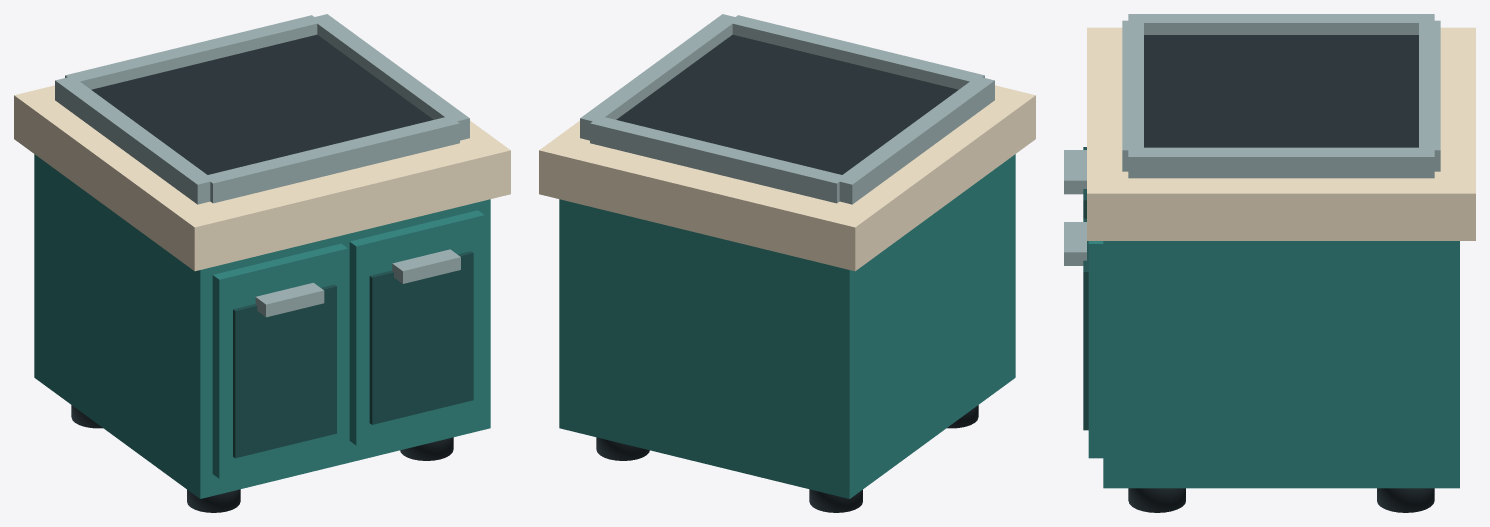
The picture shows the model from 3 angles, left to right: view 1: azimuth 30°, elevation 25°; view 2: azimuth 150°, elevation 25°; view 3: azimuth 270°, elevation 25°; orthographic projection. The views are drawn at different scales.
Visible parts, largest first — view 1: Powder coated carcase.002, Work surface.002, Recessed food well.002, Recessed face.005, Recessed face.004, Inset cabinet door.005, Inset cabinet door.004, Pan rim.010, Pan rim.008, Pan rim.011, Pan rim.009, Brushed pull.004 (+3 smaller); view 2: Powder coated carcase.002, Work surface.002, Recessed food well.002, Pan rim.011, Pan rim.008, Pan rim.010, Pan rim.009, Recessed leveling foot.009, Recessed leveling foot.011; view 3: Powder coated carcase.002, Work surface.002, Recessed food well.002, Pan rim.009, Pan rim.008, Inset cabinet door.005, Pan rim.010, Pan rim.011, Recessed leveling foot.010, Recessed leveling foot.011, Recessed face.005, Brushed pull.004 (+1 smaller).
Part boxes in pixels (x1,y1,x2,y2): Powder coated carcase.002: (34,154,490,498); Work surface.002: (14,85,510,271); Recessed food well.002: (91,34,433,174); Recessed face.005: (369,251,473,424); Recessed face.004: (233,284,336,458); Inset cabinet door.005: (349,210,484,445); Inset cabinet door.004: (212,243,347,478); Pan rim.010: (205,117,459,203); Pan rim.008: (55,77,214,204); Pan rim.011: (65,15,321,89); Pan rim.009: (310,14,469,140); Brushed pull.004: (255,282,324,317); Powder coated carcase.002: (559,154,1015,498); Work surface.002: (539,85,1035,271); Recessed food well.002: (616,34,958,174); Pan rim.011: (590,116,841,203); Pan rim.008: (835,77,994,204); Pan rim.010: (731,15,984,89); Pan rim.009: (580,14,739,140); Recessed leveling foot.009: (809,489,862,512); Recessed leveling foot.011: (596,437,649,460); Powder coated carcase.002: (1103,241,1459,488); Work surface.002: (1087,27,1475,240); Recessed food well.002: (1144,35,1418,147); Pan rim.009: (1128,147,1434,178); Pan rim.008: (1128,14,1434,34); Inset cabinet door.005: (1088,241,1103,458); Pan rim.010: (1122,20,1143,171); Pan rim.011: (1419,20,1440,171); Recessed leveling foot.010: (1128,488,1185,512); Recessed leveling foot.011: (1377,488,1434,512); Recessed face.005: (1083,218,1088,430); Brushed pull.004: (1064,150,1086,194).
Size of the model in its own units: 0.98 by 0.9895 by 1.03.
